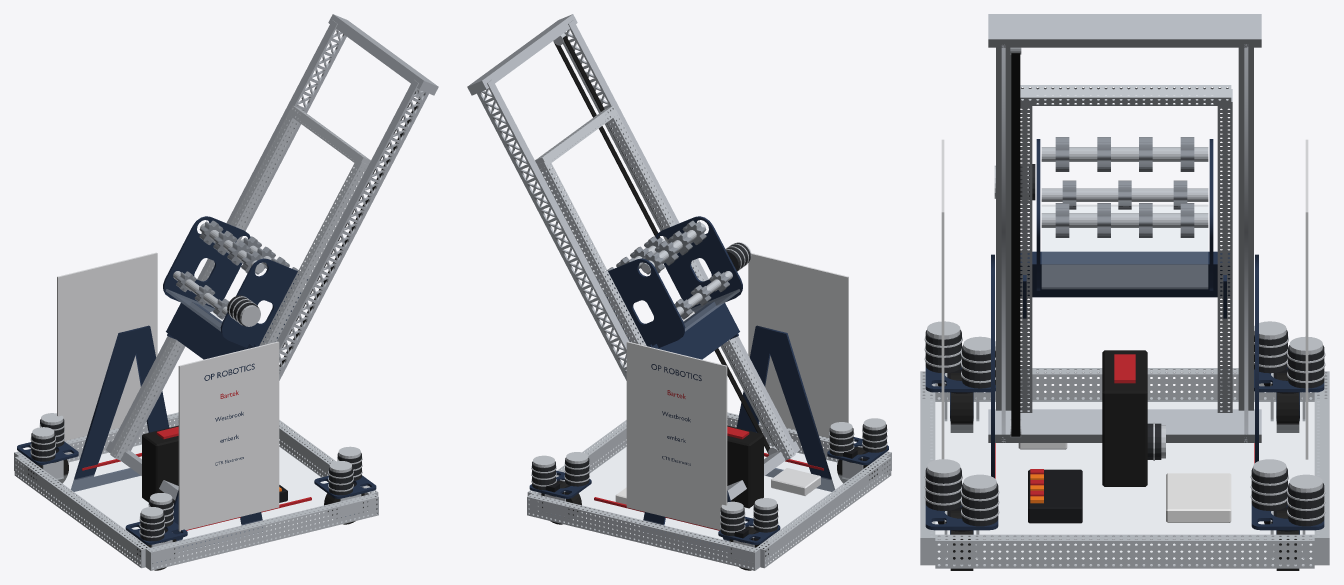
The picture shows the model from 3 angles, left to right: view 1: azimuth 30°, elevation 25°; view 2: azimuth 150°, elevation 25°; view 3: azimuth 270°, elevation 25°; orthographic projection. The views are drawn at different scales.
Parts seen in each view (by area): view 1: body.white, tilt.silver, body.aluminum_tube, stage.aluminum_tube, body.navy_anodized, body.polycarb, grab.navy_anodized, car.navy_anodized, body.kraken, grab.wheel_gray, body.kraken_cap, body.battery (+5 smaller); view 2: body.white, tilt.silver, body.aluminum_tube, stage.aluminum_tube, body.navy_anodized, grab.navy_anodized, body.polycarb, body.kraken, car.navy_anodized, body.kraken_cap, body.battery, tilt.belt (+6 smaller); view 3: tilt.silver, body.aluminum_tube, body.polycarb, stage.aluminum_tube, grab.polycarb, car.navy_anodized, body.kraken, body.kraken_cap, body.battery, grab.aluminum, grab.wheel_gray, body.navy_anodized (+9 smaller).
Part boxes in pixels (x1,y1,x2,y2): body.white: [57, 252, 279, 531]; tilt.silver: [106, 14, 438, 500]; body.aluminum_tube: [14, 412, 378, 570]; stage.aluminum_tube: [110, 106, 370, 460]; body.navy_anodized: [17, 325, 376, 562]; body.polycarb: [23, 442, 367, 566]; grab.navy_anodized: [163, 216, 307, 347]; car.navy_anodized: [166, 302, 258, 359]; body.kraken: [31, 419, 361, 541]; grab.wheel_gray: [176, 220, 298, 319]; body.kraken_cap: [30, 413, 362, 537]; body.battery: [142, 425, 178, 503]; body.white: [626, 253, 848, 529]; tilt.silver: [467, 14, 799, 500]; body.aluminum_tube: [527, 412, 891, 570]; stage.aluminum_tube: [535, 106, 795, 460]; body.navy_anodized: [529, 325, 888, 562]; grab.navy_anodized: [598, 216, 742, 347]; body.polycarb: [538, 443, 882, 566]; body.kraken: [532, 424, 886, 536]; car.navy_anodized: [647, 302, 739, 359]; body.kraken_cap: [531, 418, 887, 532]; body.battery: [727, 425, 763, 508]; tilt.belt: [554, 36, 779, 454]; tilt.silver: [988, 14, 1261, 442]; body.aluminum_tube: [920, 368, 1329, 568]; body.polycarb: [930, 397, 1319, 564]; stage.aluminum_tube: [1020, 85, 1232, 412]; grab.polycarb: [1042, 205, 1207, 288]; car.navy_anodized: [1020, 251, 1230, 318]; body.kraken: [925, 330, 1324, 526]; body.kraken_cap: [924, 321, 1325, 520]; body.battery: [1102, 350, 1147, 486]; grab.aluminum: [1041, 147, 1208, 227]; grab.wheel_gray: [1055, 137, 1194, 237]; body.navy_anodized: [925, 254, 1324, 534].
Size of the model in its own units: 0.9123 by 1.14 by 0.6858.
Materials: 16 (1 with a texture image).
